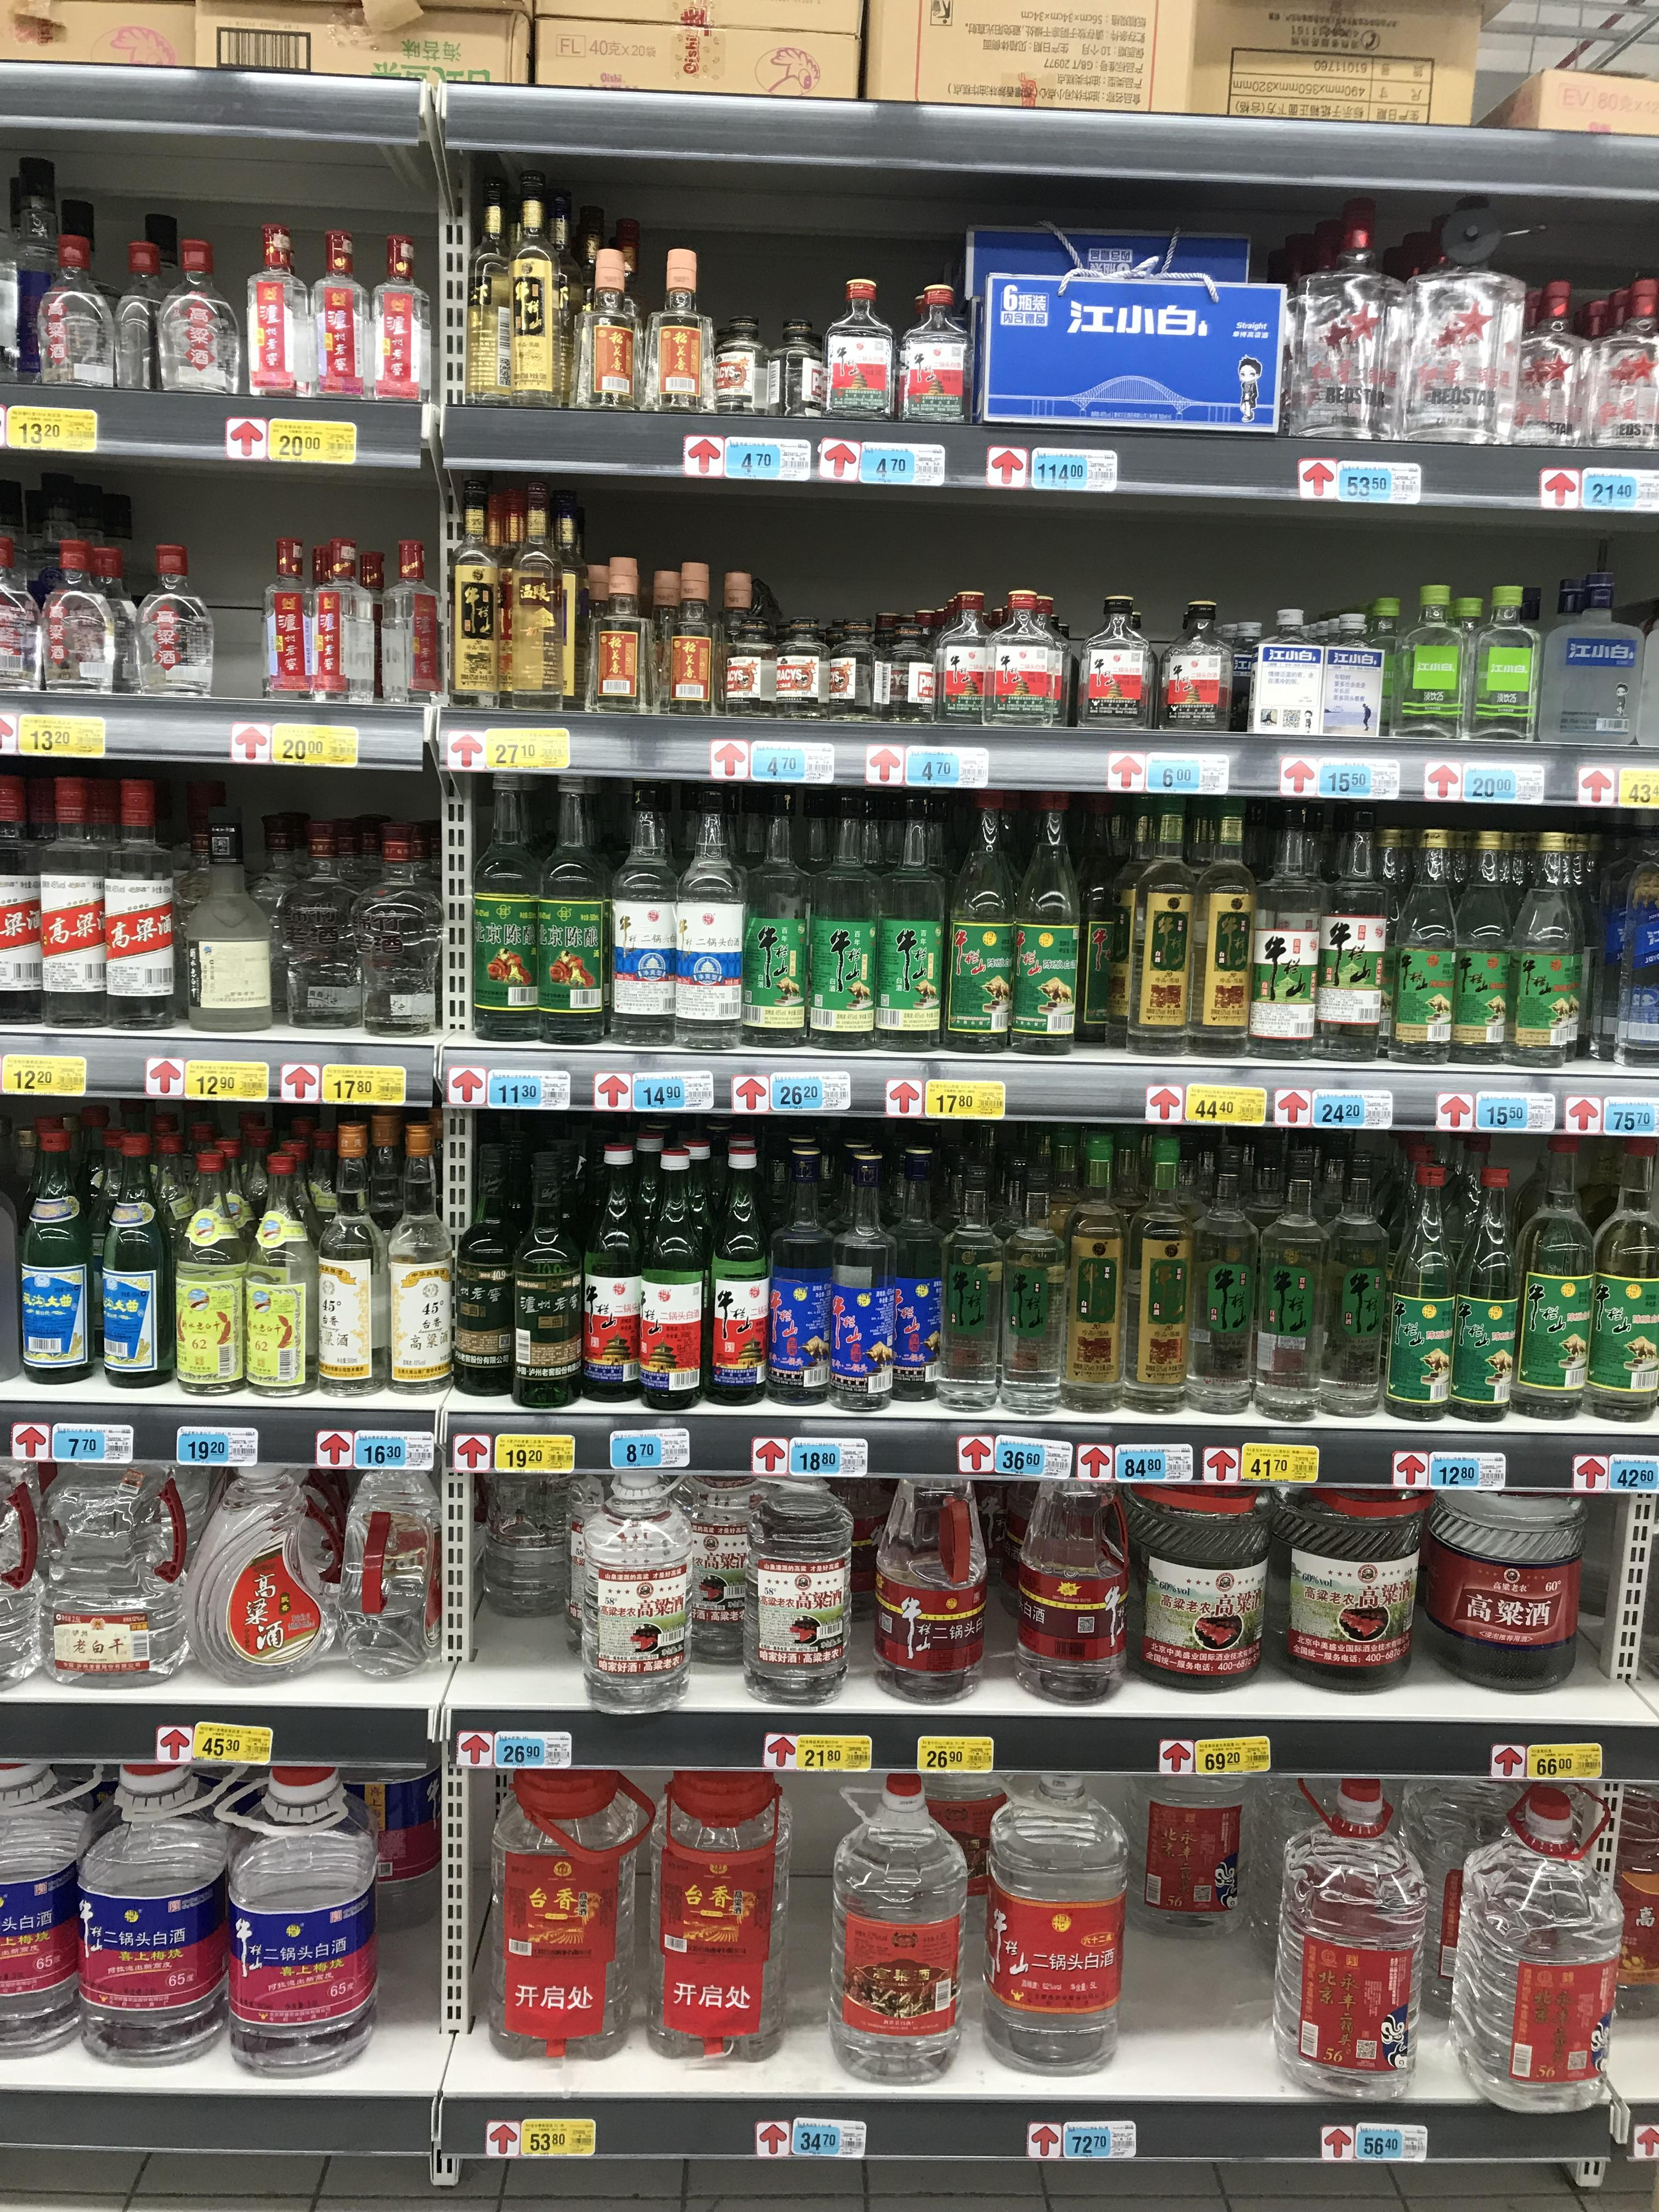bag: (1274, 1775, 1424, 2101), (491, 1768, 657, 2059), (647, 1770, 795, 2066), (28, 1442, 197, 1676), (186, 1446, 350, 1674), (331, 1454, 439, 1662)
bottle: (223, 1766, 376, 2078), (828, 1773, 972, 2083), (735, 1449, 852, 1698), (1011, 1451, 1126, 1702), (875, 1460, 988, 1698), (1284, 218, 1399, 444), (1511, 1136, 1596, 1425), (1579, 1130, 1657, 1430), (535, 763, 615, 1054), (9, 1115, 94, 1385), (465, 759, 544, 1049), (864, 784, 948, 1054), (1117, 1132, 1195, 1420), (500, 1151, 587, 1409), (939, 786, 1021, 1055), (728, 777, 809, 1052), (2, 1761, 75, 2062), (1305, 806, 1391, 1064), (1182, 1129, 1258, 1414), (669, 775, 748, 1054), (795, 782, 875, 1054), (606, 770, 683, 1054), (451, 1143, 537, 1397), (380, 1122, 458, 1397), (1112, 798, 1195, 1055), (1054, 1130, 1129, 1418), (1497, 836, 1586, 1078), (1382, 1148, 1460, 1421), (99, 777, 183, 1033), (1436, 1163, 1518, 1425), (1002, 789, 1082, 1055), (1249, 1130, 1323, 1420), (931, 1129, 1006, 1411), (96, 1130, 178, 1388), (37, 765, 115, 1033), (274, 817, 369, 1031), (183, 806, 275, 1028), (1319, 1148, 1396, 1413), (1187, 794, 1263, 1059), (633, 1148, 709, 1411), (1377, 831, 1460, 1071), (762, 1143, 836, 1409), (572, 1144, 648, 1404), (826, 1148, 901, 1413), (1037, 791, 1114, 1049), (1246, 798, 1321, 1061), (699, 1144, 774, 1407), (0, 153, 85, 383), (1441, 831, 1520, 1078), (880, 1141, 951, 1404), (308, 1123, 376, 1395), (997, 1132, 1063, 1409), (174, 1150, 246, 1397), (249, 1143, 317, 1397), (364, 824, 444, 1036), (453, 164, 521, 409), (504, 165, 568, 408), (502, 486, 568, 718), (31, 199, 108, 394), (568, 206, 638, 409), (446, 481, 505, 716), (40, 540, 125, 702), (547, 509, 612, 716), (638, 247, 714, 415), (132, 543, 213, 698), (159, 239, 235, 397), (1466, 583, 1539, 744), (244, 226, 308, 404), (894, 284, 974, 427), (1075, 597, 1157, 735), (819, 277, 894, 427), (1392, 585, 1462, 745), (986, 589, 1063, 733), (308, 538, 373, 709), (368, 237, 434, 402), (929, 592, 1000, 733), (383, 543, 443, 711), (312, 233, 369, 402), (1161, 603, 1234, 735), (260, 538, 315, 705), (664, 563, 721, 723), (113, 242, 174, 392), (596, 557, 652, 721), (1345, 596, 1403, 742), (704, 571, 753, 723), (701, 315, 774, 416), (723, 571, 770, 723), (821, 618, 884, 725), (767, 617, 826, 723), (878, 613, 931, 730), (772, 317, 828, 421)
box: (1197, 2, 1481, 129), (871, 2, 1197, 110), (190, 0, 533, 87), (1480, 70, 1659, 136)
bucket: (1450, 1780, 1608, 2114), (77, 1763, 237, 2071), (979, 1775, 1127, 2078), (579, 1453, 697, 1703), (673, 1449, 786, 1670), (472, 1446, 591, 1606)
jar: (1419, 1470, 1584, 1688), (1281, 1472, 1419, 1696), (1127, 1474, 1269, 1691), (532, 17, 868, 101), (1394, 270, 1520, 442), (1492, 293, 1588, 449), (1581, 289, 1656, 453), (1249, 608, 1331, 737), (1321, 615, 1387, 740)
others: (967, 225, 1279, 432), (1121, 1773, 1277, 1939)
